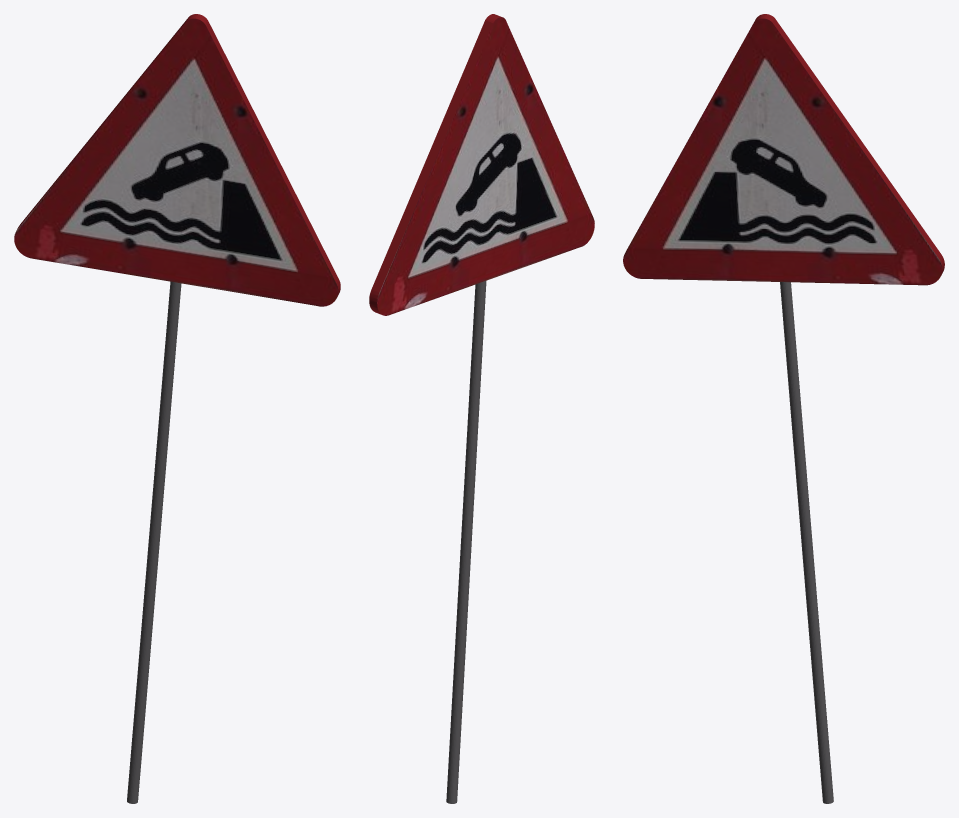
The model's file is traffic-sign.glb.
3 views of the same model, side by side, from view 1: azimuth 90°, elevation 25°; view 2: azimuth 150°, elevation 25°; view 3: azimuth 270°, elevation 25° (orthographic). The views are drawn at different scales.
Visible parts, largest first — view 1: shovel; view 2: shovel; view 3: shovel.
Boxes of the visible parts, box(x1,y1,x2,y2) form: shovel: box(14, 14, 340, 803); shovel: box(369, 14, 594, 803); shovel: box(623, 14, 944, 803).
Size of the model in its own units: 0.1718 by 1.8 by 0.673.
Materials: 3 (3 with a texture image).
